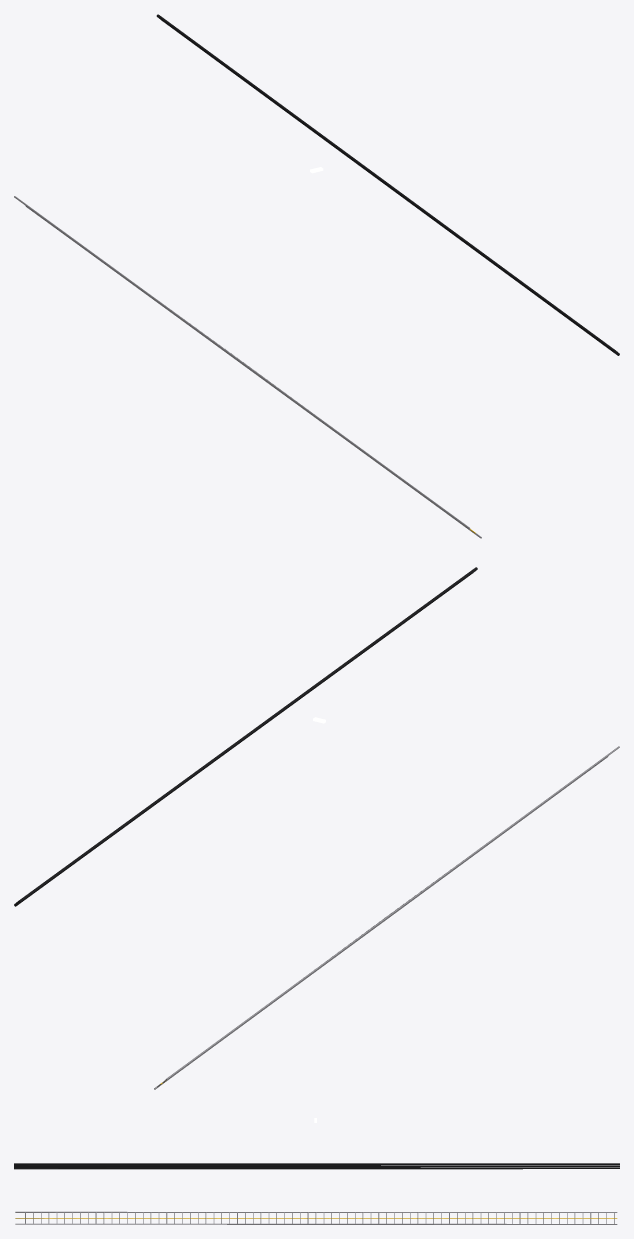
Rendered from ladder_1.glb.
3 renders of one model, top to bottom at view 1: azimuth 30°, elevation 25°; view 2: azimuth 150°, elevation 25°; view 3: azimuth 270°, elevation 25°, orthographic. The views are drawn at different scales.
Parts seen in each view (by area): view 1: ladder_1; view 2: ladder_1; view 3: ladder_1.
Boxes of the visible parts, left/top/right/bottom form: ladder_1: left=14, top=14, right=619, bottom=538; ladder_1: left=14, top=567, right=619, bottom=1089; ladder_1: left=14, top=1118, right=619, bottom=1224.
Bounding box in the file's own units: 4.12 × 4.93 × 21.61.
Materials: 4 (2 with a texture image).
